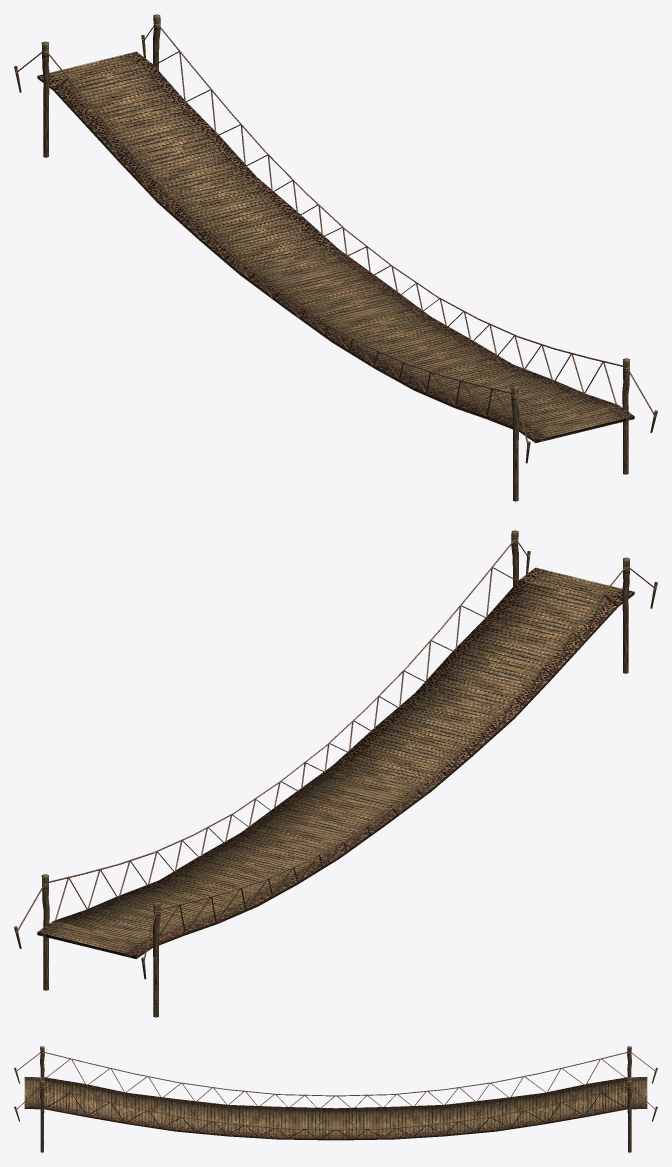
Rendered from bridge.obj.
3 views of the same model, one above another, from view 1: azimuth 30°, elevation 25°; view 2: azimuth 150°, elevation 25°; view 3: azimuth 270°, elevation 25° (orthographic). The views are drawn at different scales.
Visible parts, largest first — view 1: Sphere01; view 2: Sphere01; view 3: Sphere01.
Part boxes in pixels (x1,y1,x2,y2): Sphere01: (14, 14, 657, 501); Sphere01: (14, 530, 657, 1017); Sphere01: (14, 1046, 657, 1152).
Size of the model in its own units: 41.06 by 34.54 by 282.
Materials: 1 (1 with a texture image).
